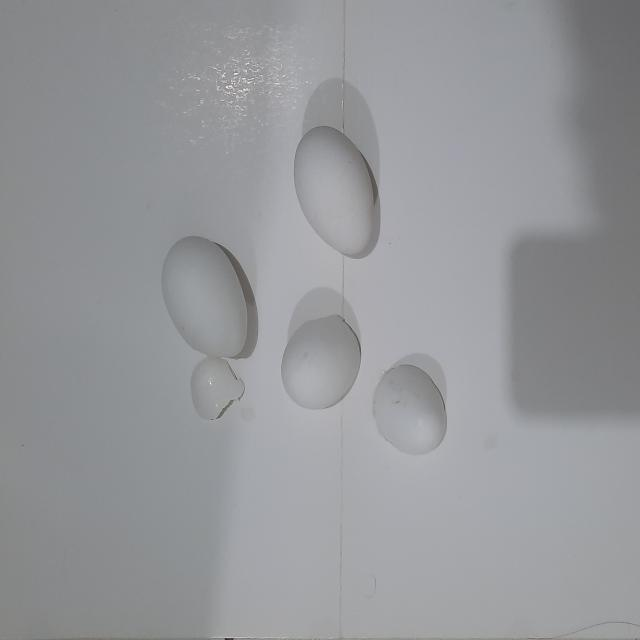egg shell: (289, 117, 382, 266), (156, 230, 258, 359), (277, 310, 367, 418), (369, 356, 453, 462), (187, 360, 248, 423)
